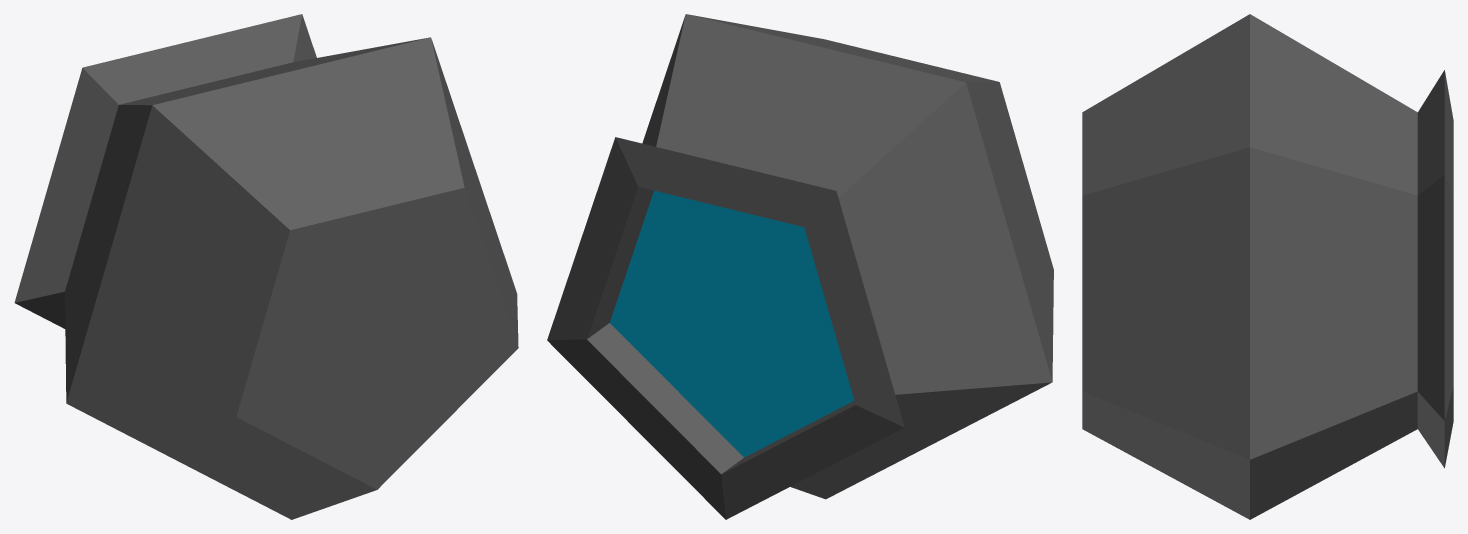
File: CraftPot.fbx
3 views of the same model, side by side, from view 1: azimuth 30°, elevation 25°; view 2: azimuth 150°, elevation 25°; view 3: azimuth 270°, elevation 25° (orthographic). The views are drawn at different scales.
Visible parts, largest first — view 1: 円柱; view 2: 円柱; view 3: 円柱.
Boxes of the visible parts, x1,y1,x2,y2 form: 円柱: [14, 14, 518, 519]; 円柱: [547, 14, 1053, 519]; 円柱: [1082, 14, 1453, 519].
Bounding box in the file's own units: 3.04 × 2.89 × 2.21.
